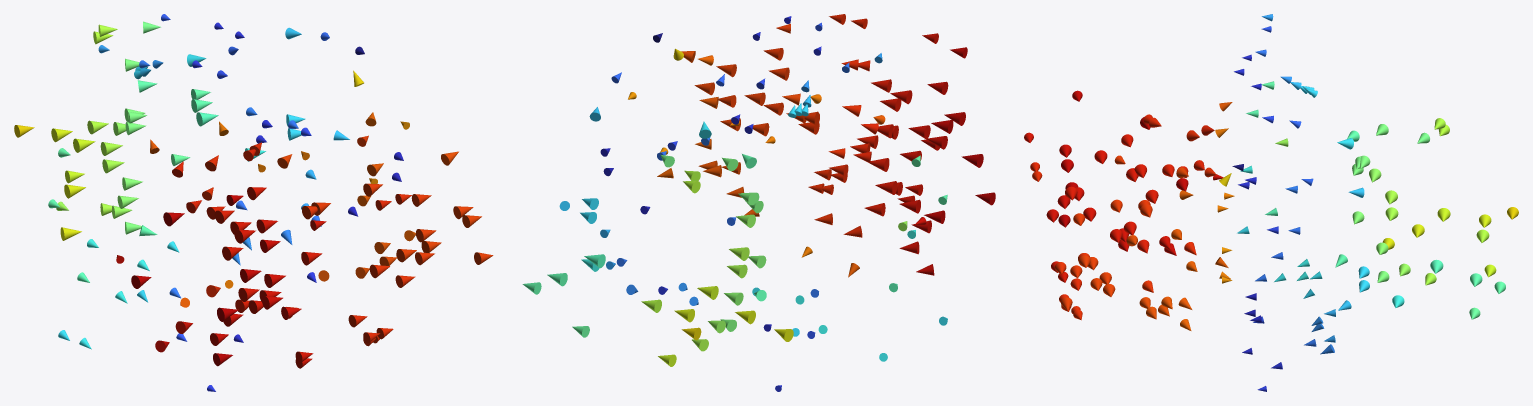
The model's file is LineasCorrienteH2-O2_mh2-2.70_V-0.8.glb.
3 views of the same model, side by side, from view 1: azimuth 30°, elevation 25°; view 2: azimuth 150°, elevation 25°; view 3: azimuth 270°, elevation 25° (orthographic). The views are drawn at different scales.
Bounding box in the file's own units: 0.000921 × 0.000962 × 0.00125.
Materials: 2 (2 with a texture image).
